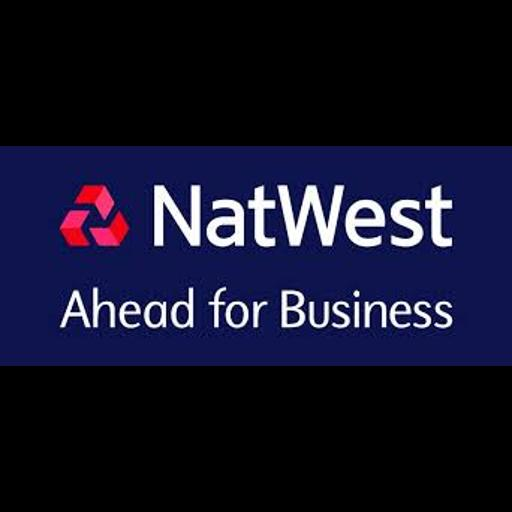NatWest Personal Banking: (0, 146, 512, 366)
